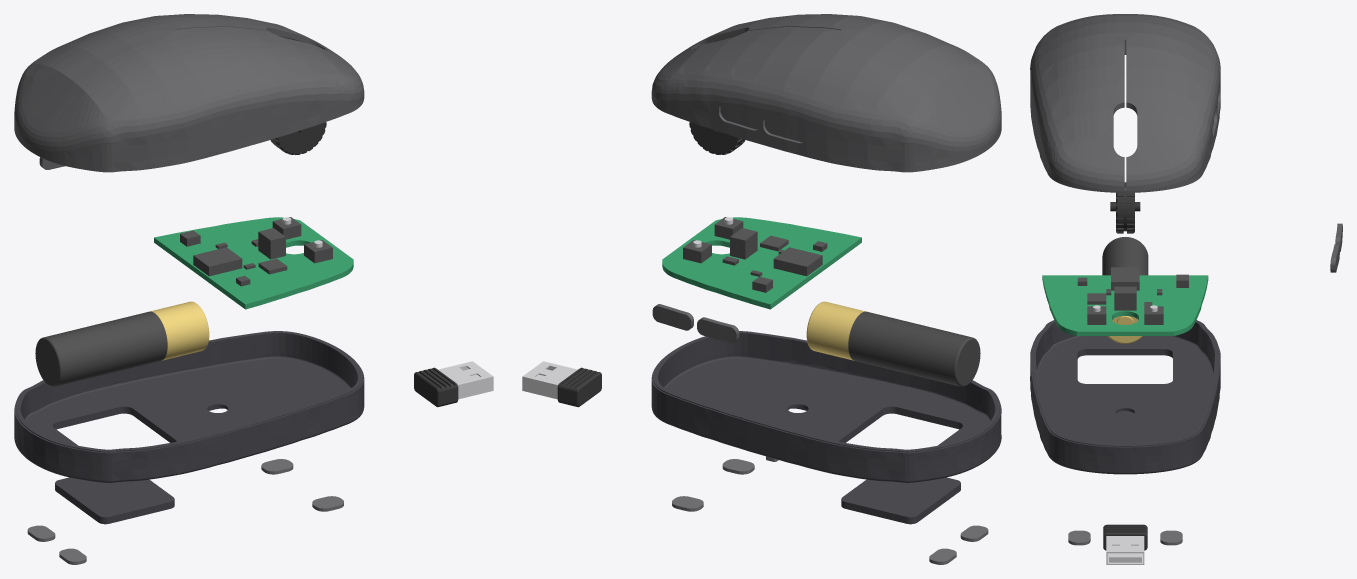
File: wireless_mouse_exploded.glb
The picture shows the model from 3 angles, left to right: view 1: azimuth 30°, elevation 25°; view 2: azimuth 150°, elevation 25°; view 3: azimuth 270°, elevation 25°; orthographic projection. The views are drawn at different scales.
Visible parts, largest first — view 1: top_shell, base, pcb, battery, battery_door, pcb_components, battery_cap, usb_receiver, usb_receiver_plug, scroll_wheel; view 2: top_shell, base, pcb, battery, battery_door, pcb_components, battery_cap, usb_receiver, usb_receiver_plug, scroll_wheel, side_button_rear, side_button_front; view 3: top_shell, base, pcb, pcb_components, battery, usb_receiver_plug, scroll_wheel, usb_receiver, battery_cap.
Boxes of the visible parts, x1,y1,x2,y2 form: top_shell: [14, 14, 364, 172]; base: [14, 331, 364, 482]; pcb: [154, 217, 353, 309]; battery: [35, 311, 167, 386]; battery_door: [55, 477, 174, 524]; pcb_components: [180, 217, 332, 286]; battery_cap: [150, 301, 209, 360]; usb_receiver: [414, 367, 458, 407]; usb_receiver_plug: [438, 361, 493, 399]; scroll_wheel: [270, 122, 326, 154]; top_shell: [651, 14, 1001, 172]; base: [651, 331, 1001, 482]; pcb: [662, 217, 861, 309]; battery: [848, 311, 980, 386]; battery_door: [841, 477, 960, 524]; pcb_components: [683, 217, 827, 292]; battery_cap: [806, 301, 865, 360]; usb_receiver: [557, 367, 601, 407]; usb_receiver_plug: [522, 361, 577, 399]; scroll_wheel: [689, 122, 745, 154]; side_button_rear: [697, 317, 739, 343]; side_button_front: [652, 304, 693, 330]; top_shell: [1030, 14, 1220, 192]; base: [1030, 320, 1220, 474]; pcb: [1042, 275, 1208, 335]; pcb_components: [1077, 267, 1188, 324]; battery: [1102, 237, 1148, 275]; usb_receiver_plug: [1106, 536, 1144, 564]; scroll_wheel: [1110, 182, 1140, 233]; usb_receiver: [1103, 524, 1147, 550]; battery_cap: [1108, 316, 1142, 343].
Bounding box in the file's own units: 0.15 × 0.1539 × 0.0985.
